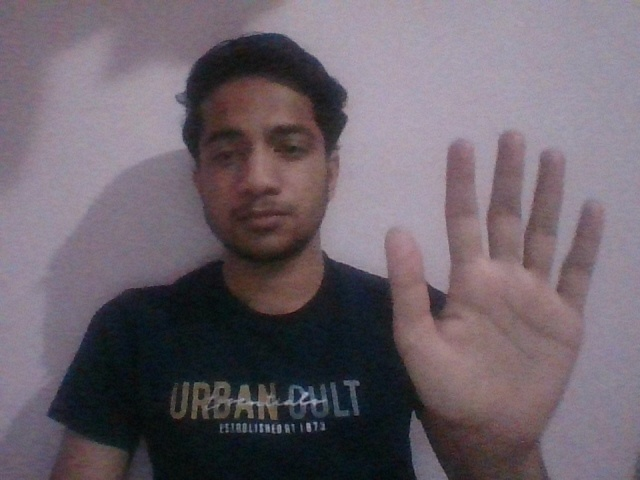Hello: (384, 128, 611, 444)
